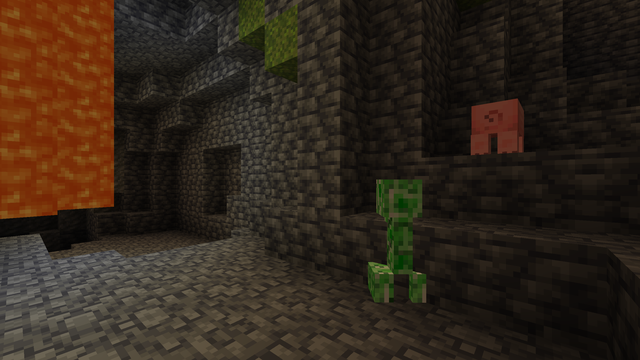cochons: (464, 95, 531, 149)
creepers: (368, 173, 426, 308)
